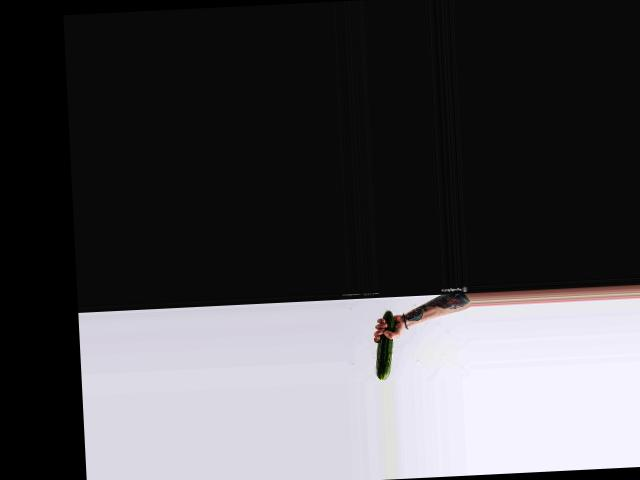cucumber: (372, 311, 396, 380)
